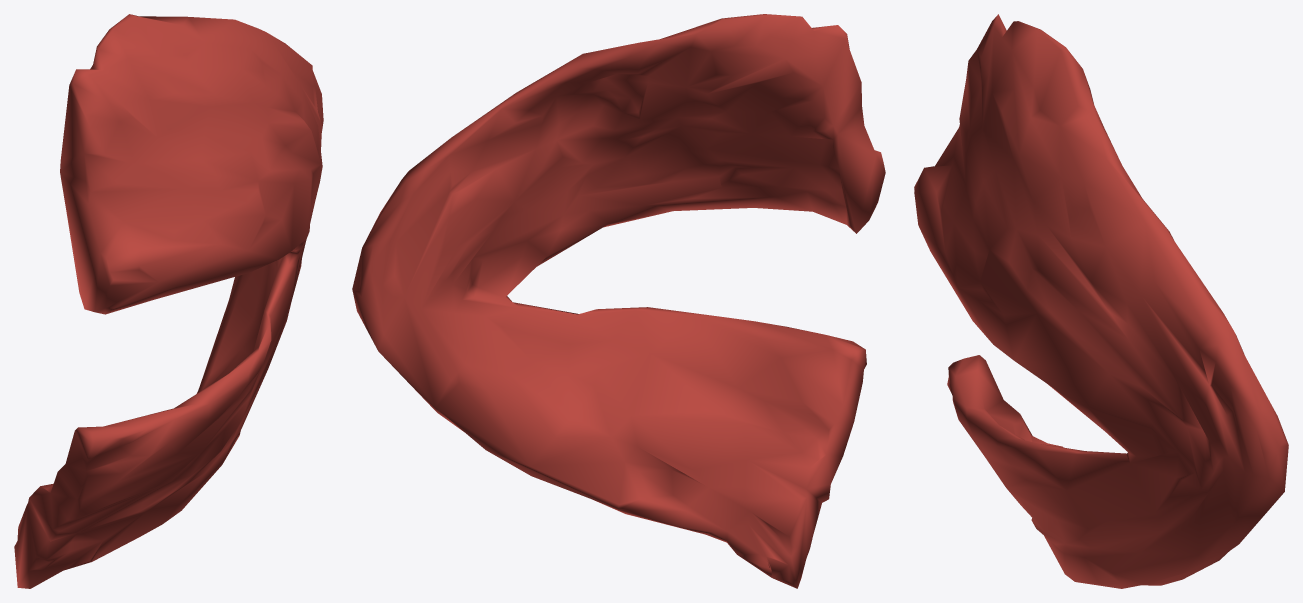
Rendered from musculos-orbicularis-oris-muscle-l.glb.
3 renders of one model, left to right at view 1: azimuth 30°, elevation 25°; view 2: azimuth 150°, elevation 25°; view 3: azimuth 270°, elevation 25°, orthographic. The views are drawn at different scales.
Parts seen in each view (by area): view 1: Orbicularis oris muscle.l; view 2: Orbicularis oris muscle.l; view 3: Orbicularis oris muscle.l.
Part boxes in pixels (x1,y1,x2,y2): Orbicularis oris muscle.l: [14, 14, 323, 588]; Orbicularis oris muscle.l: [352, 14, 885, 588]; Orbicularis oris muscle.l: [914, 14, 1288, 588].
Size of the model in its own units: 0.0321 by 0.0454 by 0.0276.
